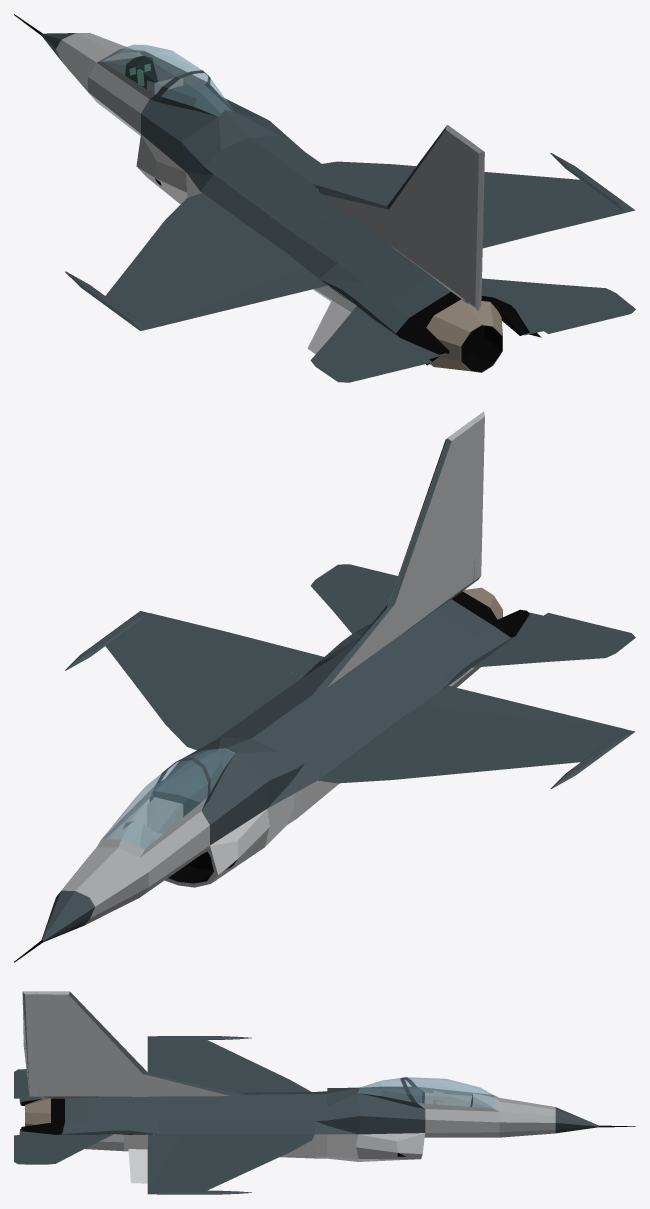
The model's file is combined_f16.fbx.
3 renders of one model, top to bottom at view 1: azimuth 30°, elevation 25°; view 2: azimuth 150°, elevation 25°; view 3: azimuth 270°, elevation 25°, orthographic. The views are drawn at different scales.
Parts seen in each view (by area): view 1: Body, Elevon, Canopy, Cockpit, Rudder, AirleonRight, AirleonLeft; view 2: Body, Elevon, Canopy, Cockpit, AirleonRight, AirleonLeft, Rudder; view 3: Body, Canopy, Elevon, Rudder, Cockpit, AirleonLeft.
Part boxes in pixels (box(x1,y1,x2,y2)): Body: box(14, 14, 635, 372); Elevon: box(310, 278, 635, 382); Canopy: box(97, 44, 234, 116); Cockpit: box(102, 52, 232, 116); Rudder: box(465, 144, 484, 310); AirleonRight: box(216, 267, 327, 310); AirleonLeft: box(482, 224, 548, 248); Body: box(14, 418, 634, 962); Elevon: box(310, 564, 635, 667); Canopy: box(97, 749, 234, 857); Cockpit: box(111, 749, 234, 848); AirleonRight: box(420, 686, 549, 718); AirleonLeft: box(216, 631, 323, 676); Rudder: box(470, 411, 484, 585); Body: box(21, 991, 635, 1194); Canopy: box(358, 1077, 499, 1111); Elevon: box(14, 1069, 113, 1164); Rudder: box(22, 991, 41, 1098); Cockpit: box(358, 1088, 499, 1108); AirleonLeft: box(147, 1134, 180, 1166).
Bounding box in the file's own units: 1779 × 900 × 2963.
Materials: 4 (3 with a texture image).
